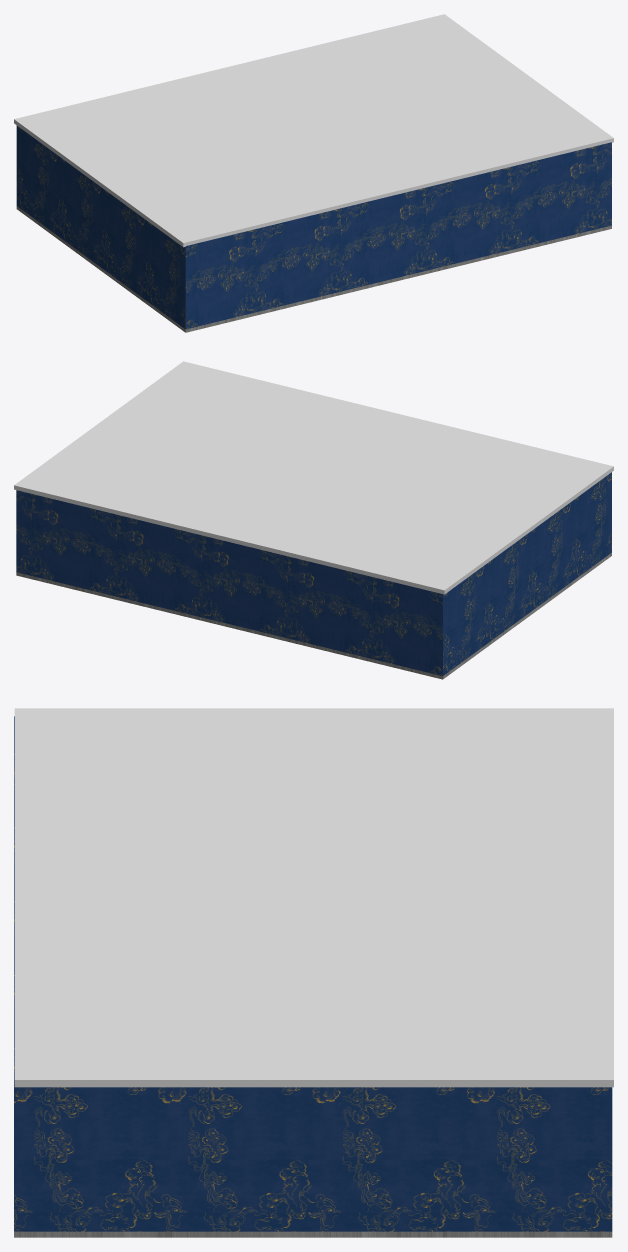
File: gallery7.glb
3 views of the same model, one above another, from view 1: azimuth 30°, elevation 25°; view 2: azimuth 150°, elevation 25°; view 3: azimuth 270°, elevation 25° (orthographic). The views are drawn at different scales.
Parts seen in each view (by area): view 1: ceiling, walls; view 2: ceiling, walls; view 3: ceiling, walls.
Boxes of the visible parts, box(x1,y1,x2,y2) form: ceiling: box(14, 14, 613, 247); walls: box(16, 125, 611, 332); ceiling: box(14, 361, 613, 594); walls: box(16, 472, 611, 679); ceiling: box(14, 708, 613, 1087); walls: box(14, 716, 612, 1237).
Bounding box in the file's own units: 29.39 × 5.87 × 20.05.
Materials: 3 (2 with a texture image).
